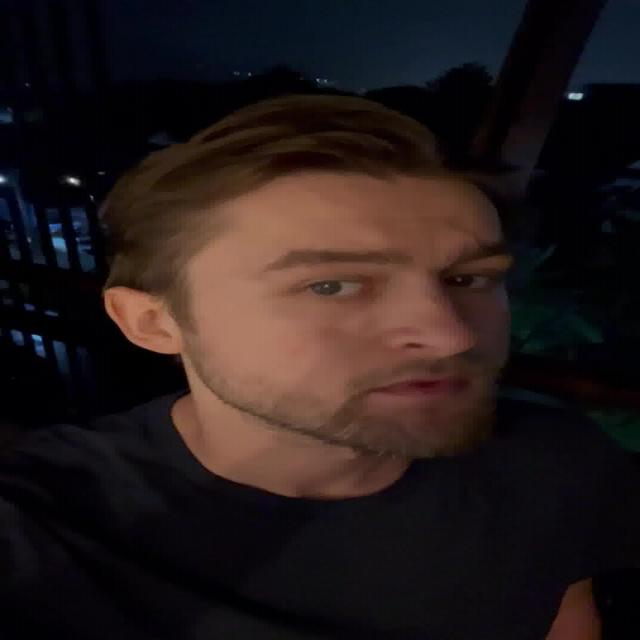earlobe: (149, 334, 185, 355)
eye: (299, 277, 368, 297), (443, 272, 498, 290)
nose: (398, 352, 466, 376)
wholeear: (102, 287, 184, 354)
